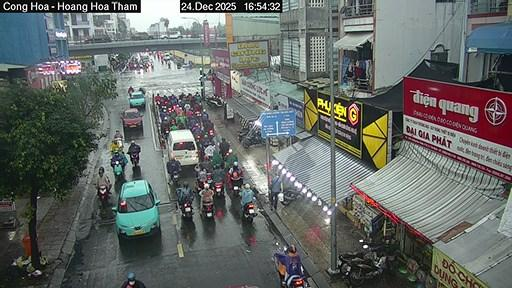motorbike: (338, 238, 389, 286), (336, 238, 386, 274), (348, 252, 386, 286), (278, 189, 301, 205), (281, 274, 307, 287), (240, 133, 263, 147), (230, 171, 242, 194), (243, 202, 255, 221), (179, 201, 192, 217), (99, 184, 108, 207), (205, 97, 221, 108), (201, 202, 213, 216), (236, 130, 248, 142), (112, 161, 121, 176), (214, 181, 223, 196), (170, 172, 179, 185), (131, 152, 138, 166), (205, 172, 211, 185), (115, 136, 121, 148), (284, 247, 285, 248)
